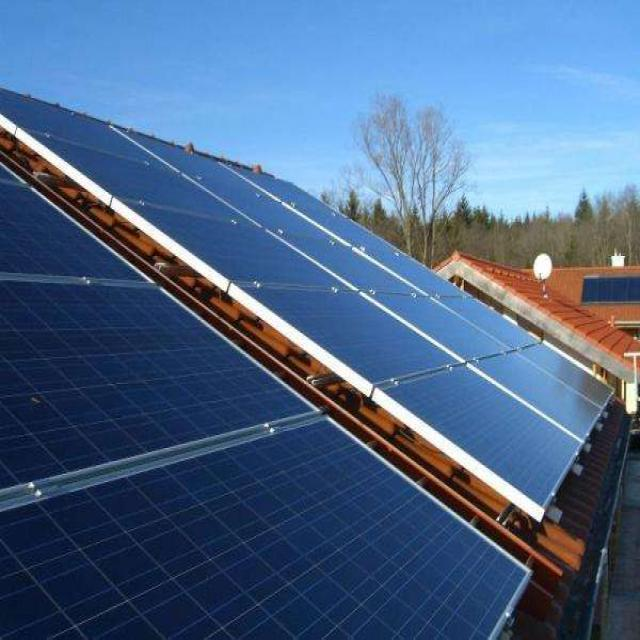clean-solar-panel: (0, 90, 610, 520), (1, 165, 526, 638)
